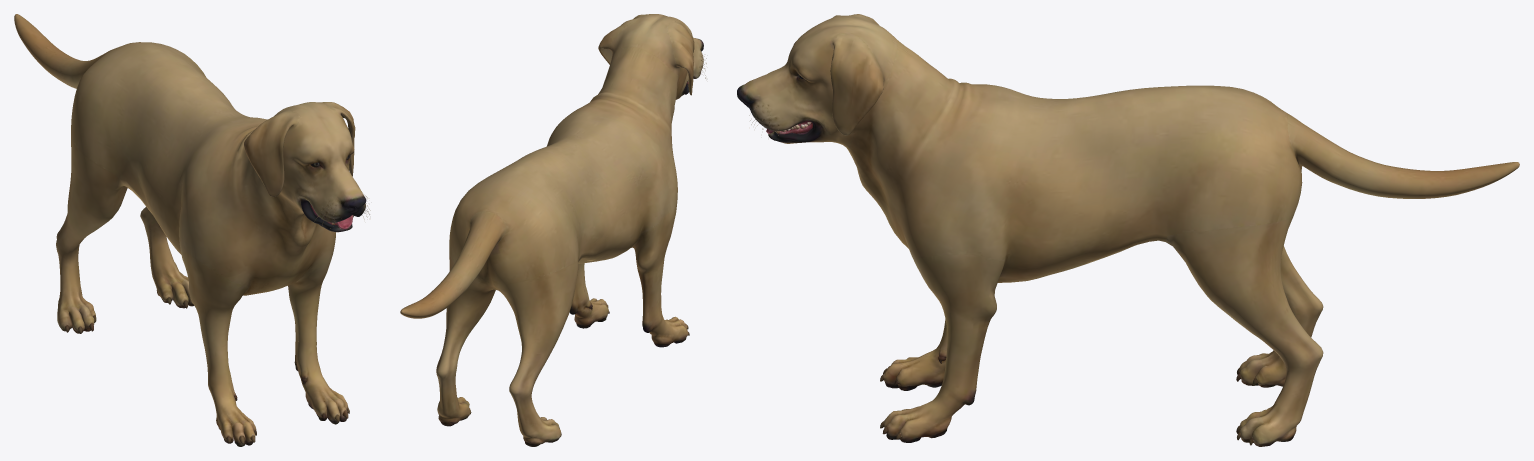
Rendered from dog-detailed.glb.
3 views of the same model, side by side, from view 1: azimuth 30°, elevation 25°; view 2: azimuth 150°, elevation 25°; view 3: azimuth 270°, elevation 25° (orthographic). The views are drawn at different scales.
Parts seen in each view (by area): view 1: Object_0; view 2: Object_0; view 3: Object_0.
Part boxes in pixels (box(x1,y1,x2,y2)): Object_0: box(14, 14, 370, 446); Object_0: box(400, 14, 706, 446); Object_0: box(737, 14, 1519, 446).
Size of the model in its own units: 0.1523 by 0.3567 by 0.65.
1 material, 1 textured.
